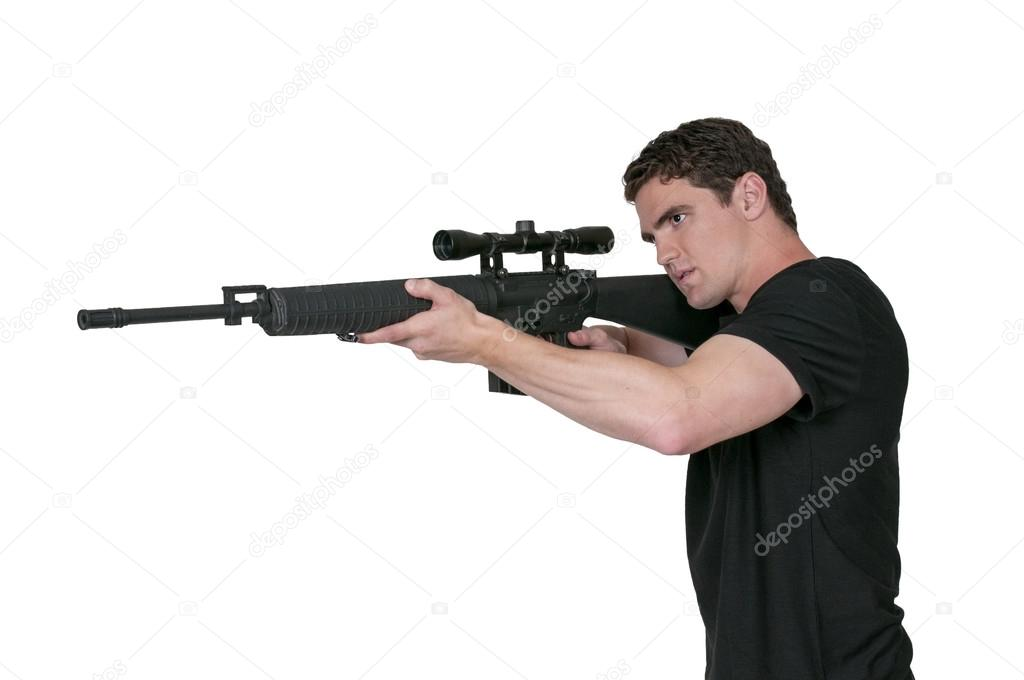Rifle: (74, 222, 762, 402)
